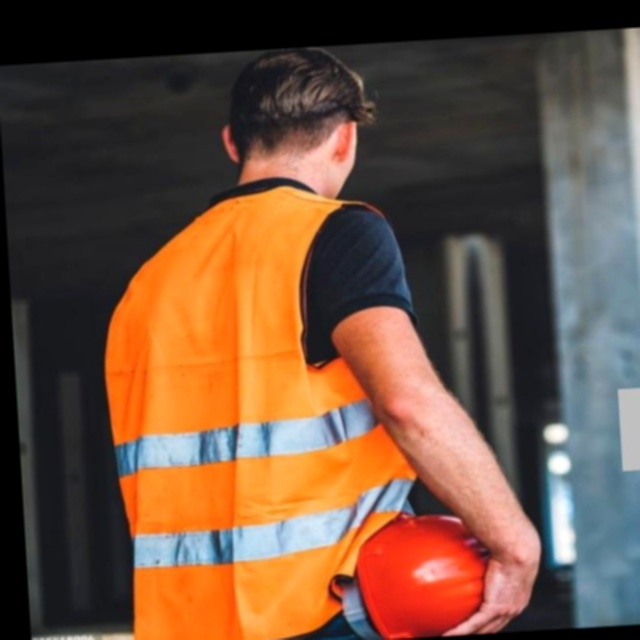Con_Chaleco: (91, 184, 443, 640)
Sin_Casco_Mascarrilla: (216, 46, 384, 201)
